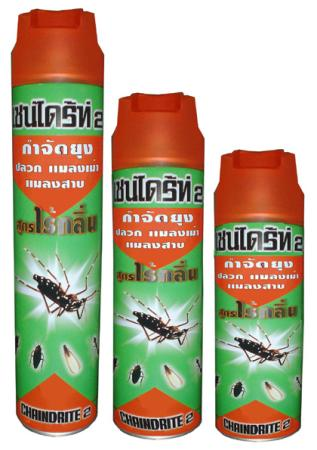Insecticide: (6, 6, 108, 440), (108, 90, 206, 444), (210, 146, 308, 444)
